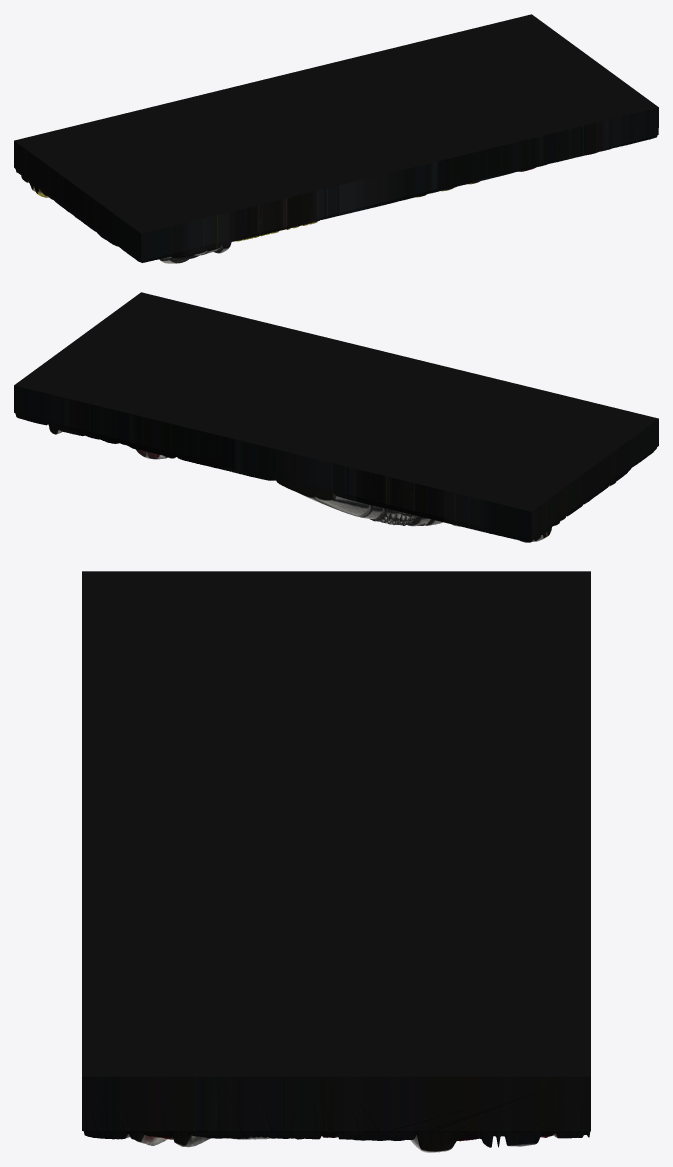
Rendered from whaam.glb.
3 views of the same model, one above another, from view 1: azimuth 30°, elevation 25°; view 2: azimuth 150°, elevation 25°; view 3: azimuth 270°, elevation 25° (orthographic). The views are drawn at different scales.
Parts seen in each view (by area): view 1: Roy Lichtenstein, Whaam! (1963).stl; view 2: Roy Lichtenstein, Whaam! (1963).stl; view 3: Roy Lichtenstein, Whaam! (1963).stl.
Part boxes in pixels (x1,y1,x2,y2): Roy Lichtenstein, Whaam! (1963).stl: (14, 14, 658, 263); Roy Lichtenstein, Whaam! (1963).stl: (14, 292, 658, 542); Roy Lichtenstein, Whaam! (1963).stl: (82, 571, 590, 1152).
Size of the model in its own units: 100 by 13.99 by 42.56.
1 material, 1 textured.
